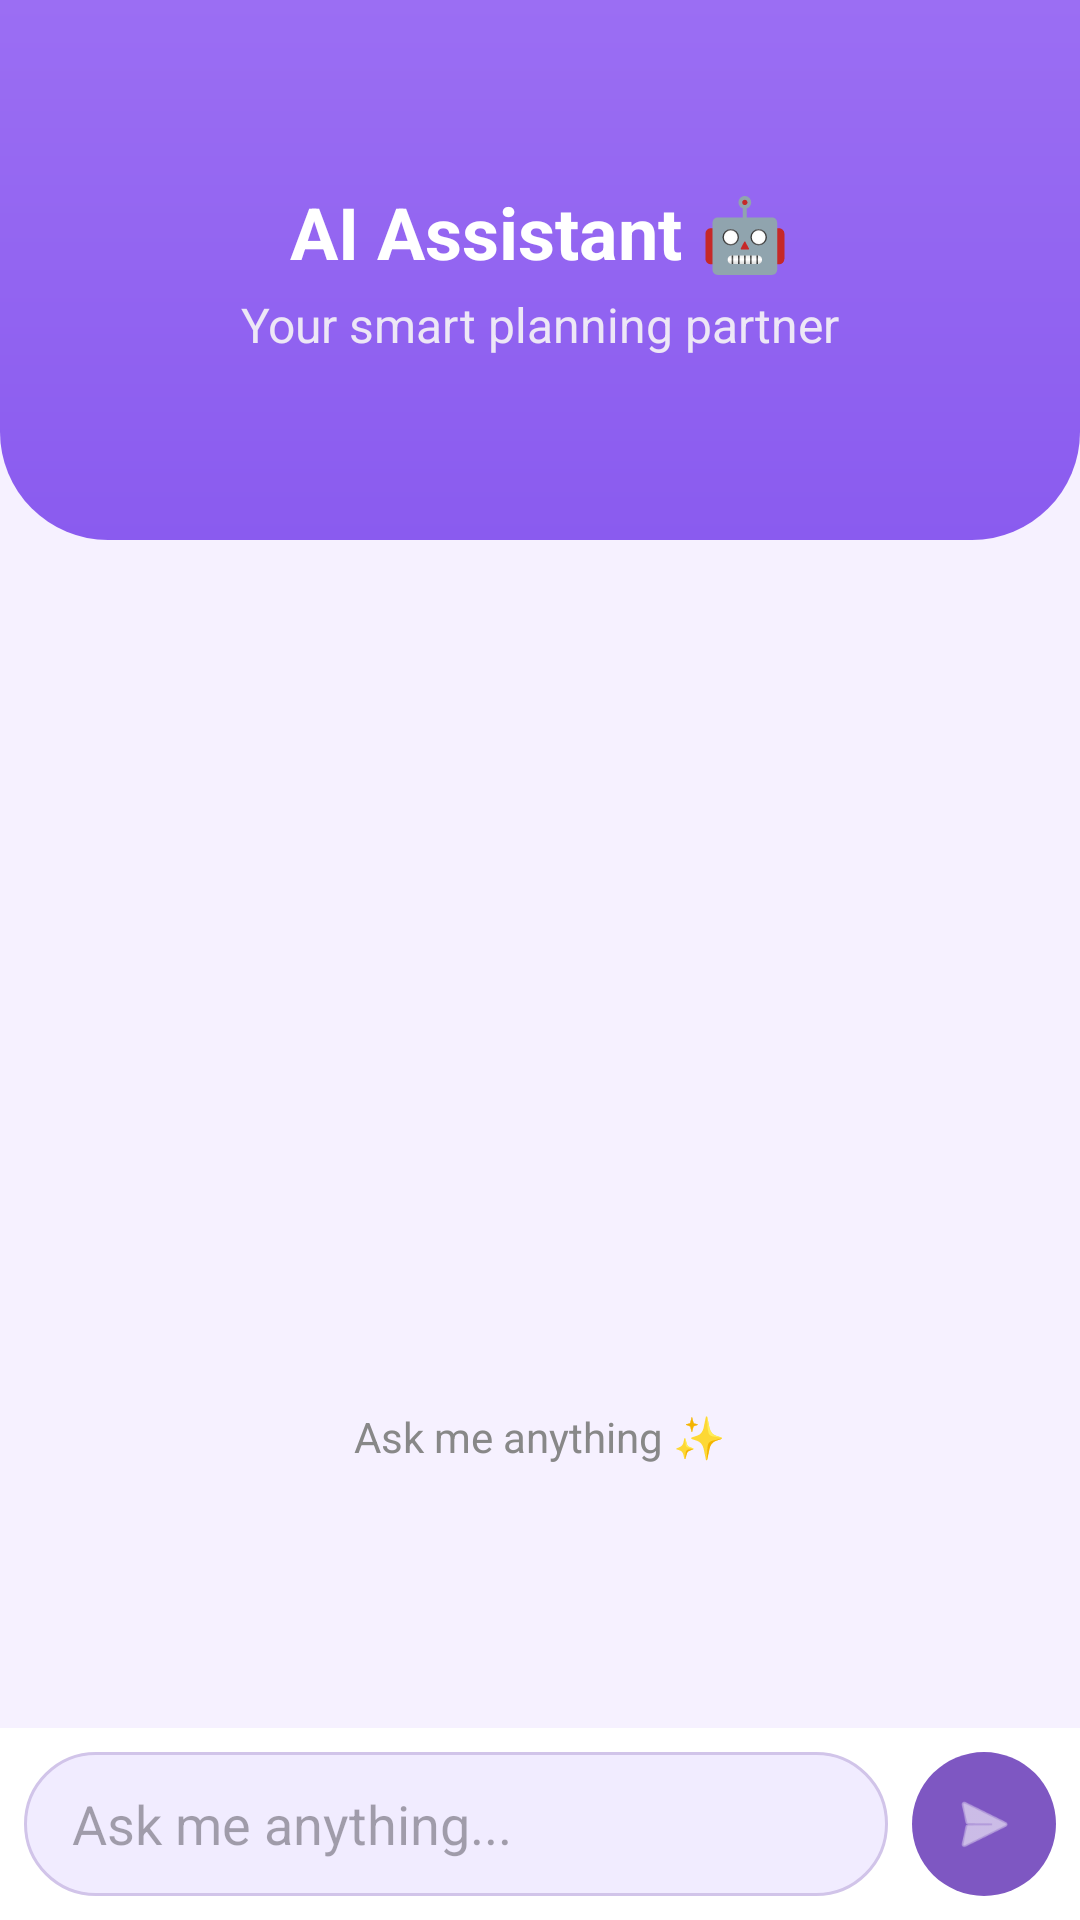

Locate icon controls on the screen. Image size 1080x1920, boxes as [x1=x1, y1=y1, x2=x2, y2=y2].
send: [x1=912, y1=1752, x2=1056, y2=1896]
